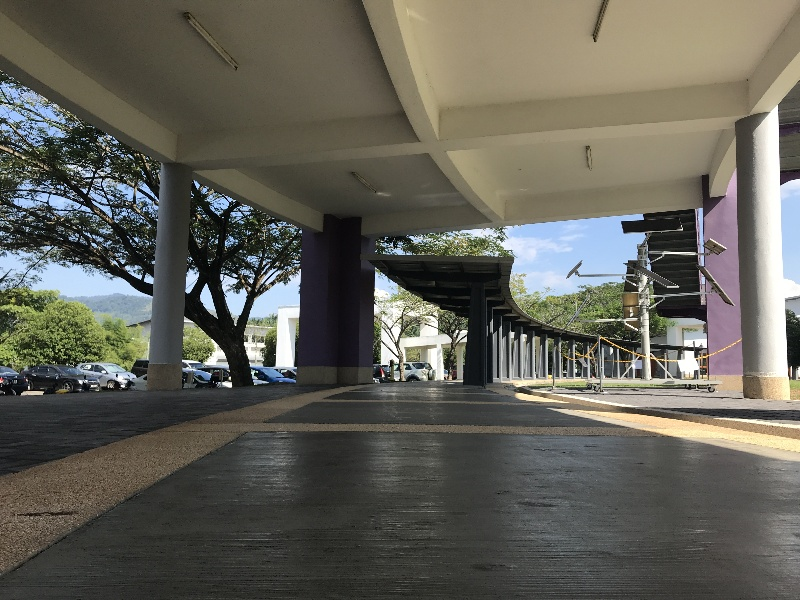pillar: (716, 108, 796, 414), (279, 197, 384, 398), (135, 151, 187, 393), (458, 280, 491, 387)
